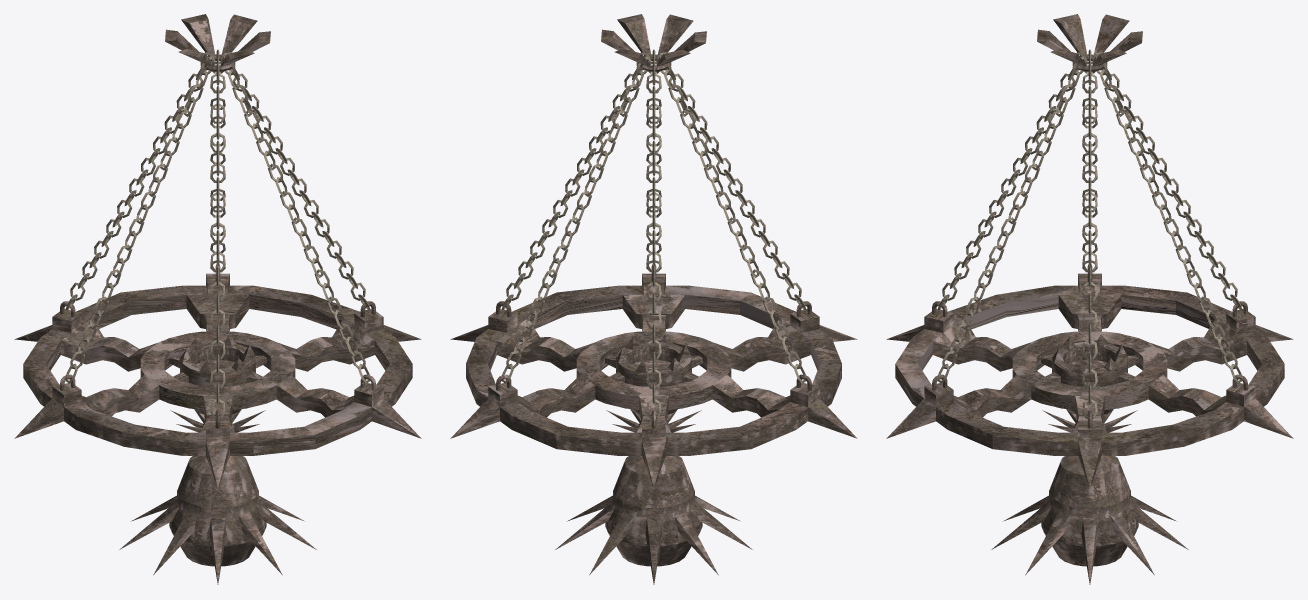
File: Chandelier.fbx
The picture shows the model from 3 angles, left to right: view 1: azimuth 30°, elevation 25°; view 2: azimuth 150°, elevation 25°; view 3: azimuth 270°, elevation 25°; orthographic projection.
Visible parts, largest first — view 1: Chandelier, ChainPiece.038, Torus.008; view 2: Chandelier, ChainPiece.038, Torus.008; view 3: Chandelier, ChainPiece.038, Torus.008.
Boxes of the visible parts, left/top/right/bottom form: Chandelier: left=14, top=264, right=421, bottom=584; ChainPiece.038: left=65, top=49, right=370, bottom=418; Torus.008: left=165, top=14, right=270, bottom=71; Chandelier: left=450, top=264, right=857, bottom=584; ChainPiece.038: left=501, top=49, right=806, bottom=418; Torus.008: left=601, top=14, right=706, bottom=71; Chandelier: left=886, top=264, right=1293, bottom=584; ChainPiece.038: left=937, top=49, right=1242, bottom=418; Torus.008: left=1037, top=14, right=1142, bottom=71.
Bounding box in the file's own units: 535 × 648 × 464.
3 materials, 3 textured.
